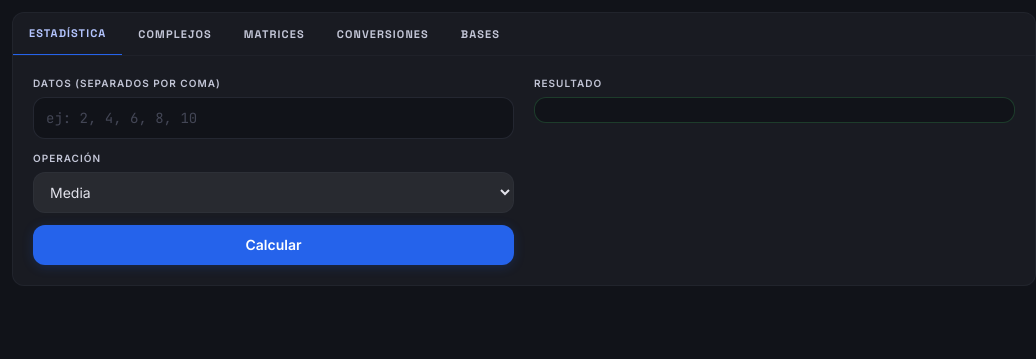
it: AdvancedPanel — Tab Matrices › muestra textarea para matriz A con data-testid="matrix-a-input"
Click the tab with test id "tab-matrix" at (274, 34), box [228, 13, 321, 54]
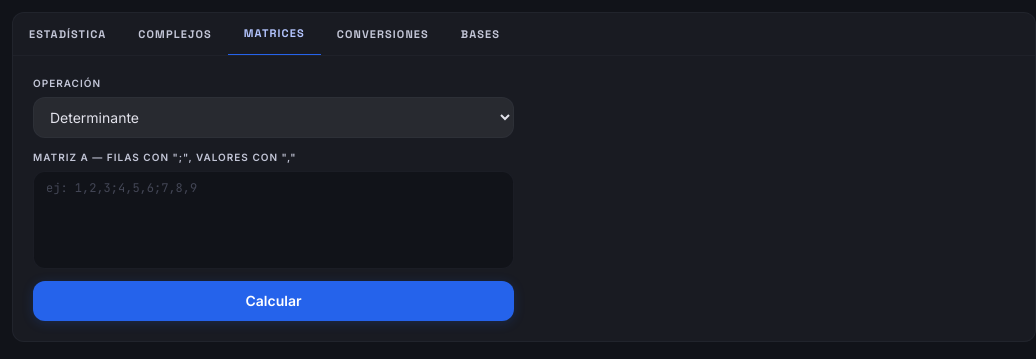
Expected: the text box with test id "matrix-a-input" is shown, [33, 170, 514, 268]
